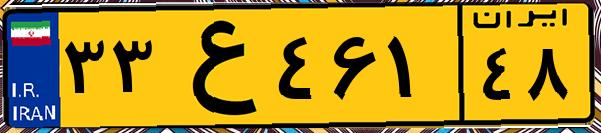1: (385, 28, 445, 110)
3: (57, 26, 110, 100), (110, 28, 158, 98)
4: (270, 28, 330, 110), (475, 38, 525, 113)
6: (330, 28, 385, 110)
8: (525, 38, 570, 115)
ع: (158, 12, 270, 120)
